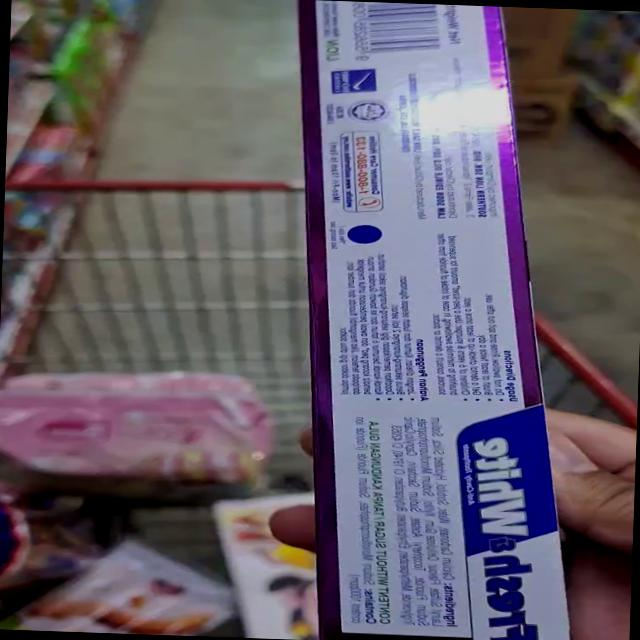Tisu: (196, 489, 325, 640)
Ubat Gigi: (307, 326, 589, 640), (277, 6, 534, 348)
